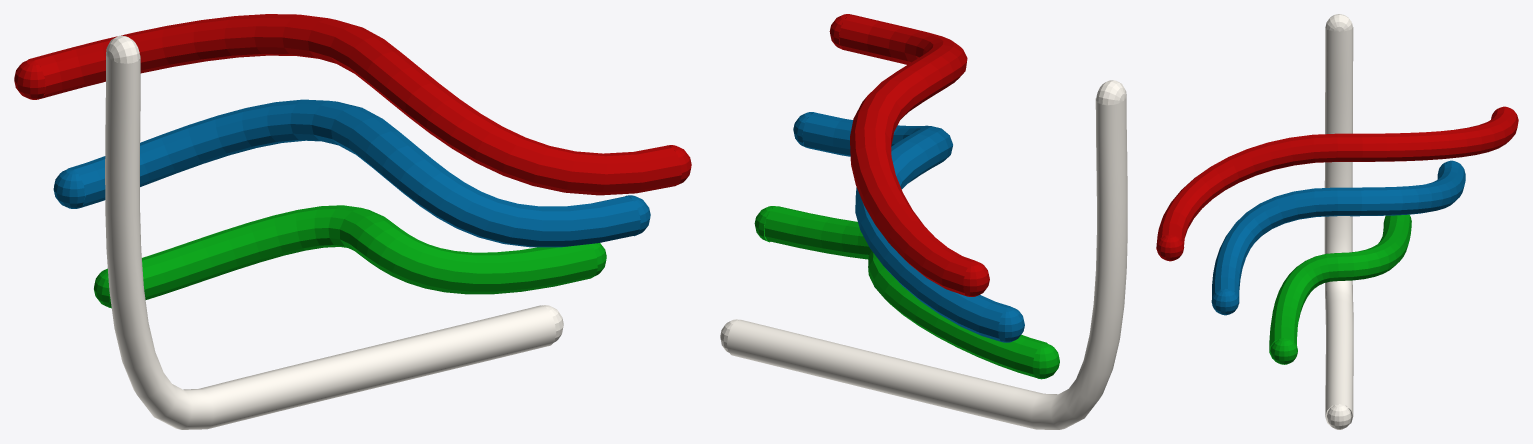
3 renders of one model, left to right at view 1: azimuth 30°, elevation 25°; view 2: azimuth 150°, elevation 25°; view 3: azimuth 270°, elevation 25°, orthographic. The views are drawn at different scales.
Parts seen in each view (by area): view 1: AxisLine, Line, Line.001, Line.002, BackCap, BackCap.001, BackCap.002; view 2: AxisLine, Line, Line.001, Line.002, BackCap.003, BackCap.001, BackCap, BackCap.002; view 3: Line, Line.001, AxisLine, Line.002, FrontCap.003, FrontCap, FrontCap.001, FrontCap.002, BackCap.002.
Boxes of the visible parts, x1,y1,x2,y2 form: AxisLine: (105, 54, 556, 429); Line: (28, 14, 681, 195); Line.001: (68, 99, 640, 247); Line.002: (142, 205, 597, 299); BackCap: (14, 59, 45, 99); BackCap.001: (53, 168, 84, 208); BackCap.002: (106, 35, 140, 63); AxisLine: (727, 97, 1127, 429); Line: (839, 15, 974, 296); Line.001: (802, 112, 1010, 342); Line.002: (764, 206, 1047, 377); BackCap.003: (1032, 343, 1059, 379); BackCap.001: (998, 306, 1024, 342); BackCap: (963, 261, 989, 296); BackCap.002: (1096, 80, 1126, 105); Line: (1156, 108, 1518, 249); Line.001: (1212, 162, 1465, 303); AxisLine: (1324, 27, 1353, 427); Line.002: (1269, 214, 1411, 359); FrontCap.003: (1270, 338, 1297, 364); FrontCap: (1156, 234, 1184, 261); FrontCap.001: (1211, 288, 1239, 315); FrontCap.002: (1327, 404, 1351, 429); BackCap.002: (1325, 14, 1352, 31).
Size of the model in its own units: 10.14 by 8.73 by 10.39.
